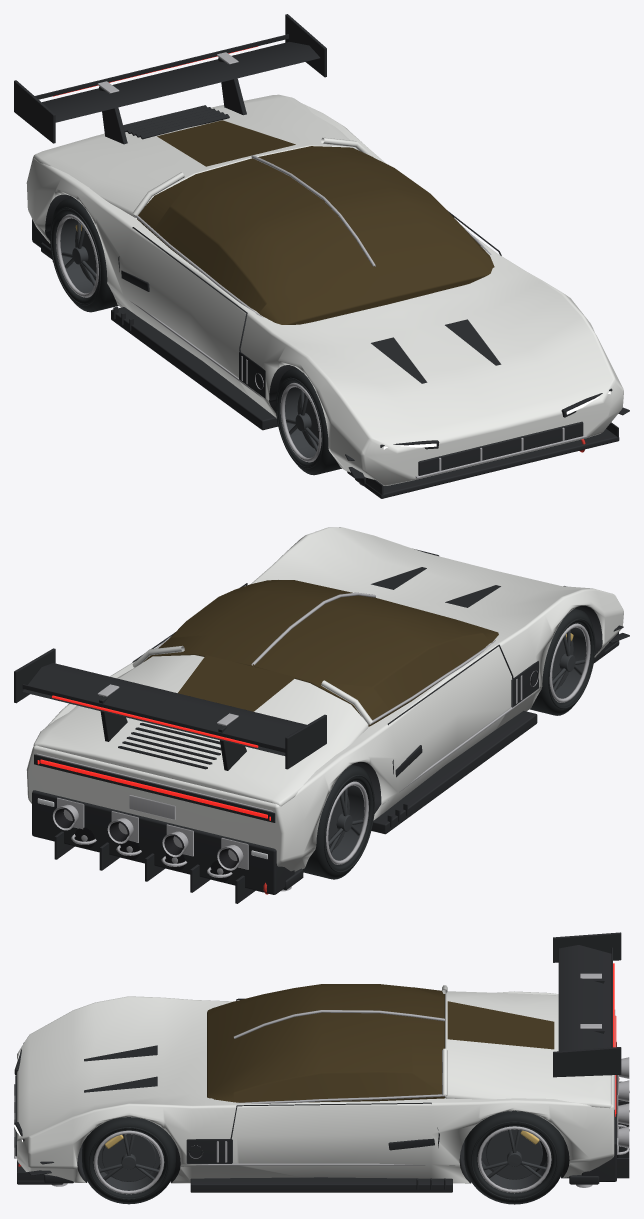
The model's file is roadster-rocket.glb.
3 views of the same model, one above another, from view 1: azimuth 30°, elevation 25°; view 2: azimuth 150°, elevation 25°; view 3: azimuth 270°, elevation 25° (orthographic). The views are drawn at different scales.
Parts seen in each view (by area): view 1: Body__Ano_White, Body__Gold_Glass, Body__Carbon, Rear_Wing__Carbon, Spinner_RL__Rubber, Body__Titanium, Spinner_FL__Rubber, Spinner_RL__Wheel_Graphite, Spinner_FL__Wheel_Graphite, Spinner_RL__Titanium, Spinner_FL__Titanium; view 2: Body__Ano_White, Body__Gold_Glass, Body__Carbon, Rear_Wing__Carbon, Body__Titanium, Spinner_RL__Rubber, Spinner_FL__Rubber, Body__Thruster_Throat, Spinner_RL__Wheel_Graphite, Spinner_FL__Wheel_Graphite, Body__Brake_Lamp, Spinner_RL__Titanium (+2 smaller); view 3: Body__Ano_White, Body__Gold_Glass, Body__Carbon, Rear_Wing__Carbon, Spinner_RR__Rubber, Body__Titanium, Spinner_FR__Rubber, Spinner_RR__Wheel_Graphite, Spinner_FR__Wheel_Graphite, Spinner_RR__Titanium, Spinner_FR__Titanium.
Boxes of the visible parts, x1,y1,x2,y2 form: Body__Ano_White: [26, 94, 623, 485]; Body__Gold_Glass: [137, 120, 494, 324]; Body__Carbon: [32, 57, 629, 498]; Rear_Wing__Carbon: [14, 14, 326, 143]; Spinner_RL__Rubber: [50, 197, 118, 312]; Body__Titanium: [52, 155, 586, 485]; Spinner_FL__Rubber: [275, 368, 341, 475]; Spinner_RL__Wheel_Graphite: [60, 218, 96, 293]; Spinner_FL__Wheel_Graphite: [285, 387, 318, 457]; Spinner_RL__Titanium: [56, 214, 98, 297]; Spinner_FL__Titanium: [280, 383, 321, 462]; Body__Ano_White: [26, 527, 623, 871]; Body__Gold_Glass: [144, 580, 498, 726]; Body__Carbon: [32, 549, 629, 903]; Rear_Wing__Carbon: [14, 648, 326, 769]; Body__Titanium: [36, 592, 538, 891]; Spinner_RL__Rubber: [302, 765, 374, 879]; Spinner_FL__Rubber: [530, 608, 595, 715]; Body__Thruster_Throat: [54, 672, 537, 881]; Spinner_RL__Wheel_Graphite: [328, 785, 364, 860]; Spinner_FL__Wheel_Graphite: [552, 627, 586, 698]; Body__Brake_Lamp: [37, 759, 270, 820]; Spinner_RL__Titanium: [326, 781, 368, 864]; Body__Ano_White: [17, 985, 614, 1183]; Body__Gold_Glass: [207, 984, 554, 1102]; Body__Carbon: [14, 979, 629, 1192]; Rear_Wing__Carbon: [553, 932, 621, 1077]; Spinner_RR__Rubber: [464, 1111, 564, 1204]; Body__Titanium: [14, 1010, 629, 1187]; Spinner_FR__Rubber: [82, 1117, 175, 1204]; Spinner_RR__Wheel_Graphite: [481, 1129, 547, 1189]; Spinner_FR__Wheel_Graphite: [94, 1134, 163, 1190]; Spinner_RR__Titanium: [477, 1126, 551, 1193]; Spinner_FR__Titanium: [93, 1130, 164, 1194].
Bounding box in the file's own units: 2.03 × 1.28 × 4.5.
